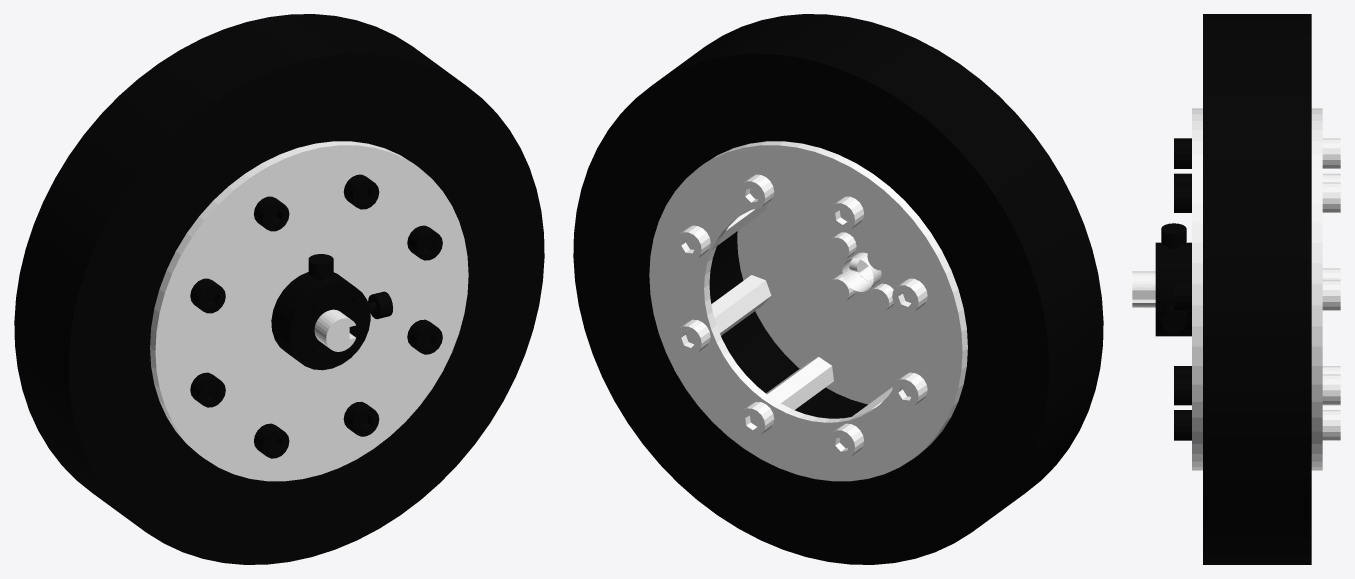
File: vmega_wheel.dae
The picture shows the model from 3 angles, left to right: view 1: azimuth 30°, elevation 25°; view 2: azimuth 150°, elevation 25°; view 3: azimuth 270°, elevation 25°; orthographic projection.
Parts seen in each view (by area): view 1: Megarover_002; view 2: Megarover_002; view 3: Megarover_002.
Boxes of the visible parts, x1=… form: Megarover_002: x1=14, y1=14, x2=544, y2=564; Megarover_002: x1=573, y1=14, x2=1103, y2=564; Megarover_002: x1=1132, y1=14, x2=1340, y2=564.
Bounding box in the file's own units: 0.152 × 0.0575 × 0.152.
Materials: 1 (1 with a texture image).
